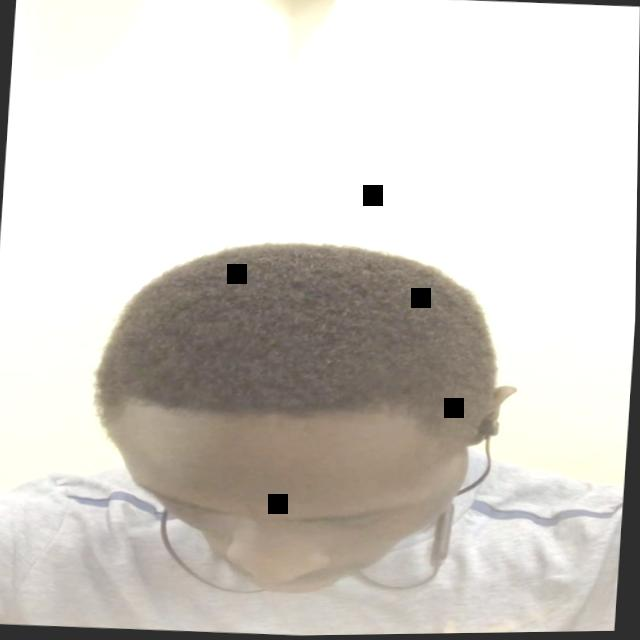NO-Mask: (88, 407, 493, 608)
